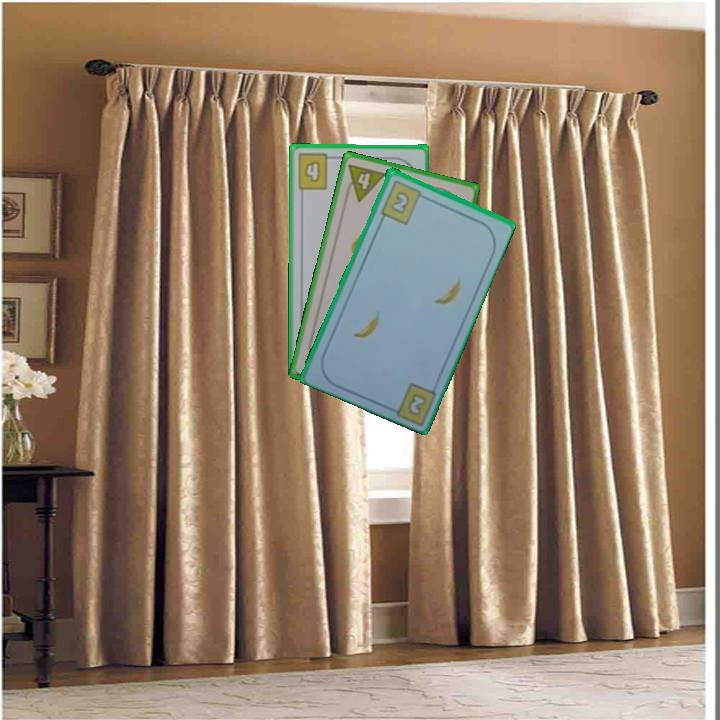2b: (377, 176, 429, 227), (404, 389, 430, 418)
4b: (294, 150, 338, 192)
4p: (341, 160, 389, 204)
